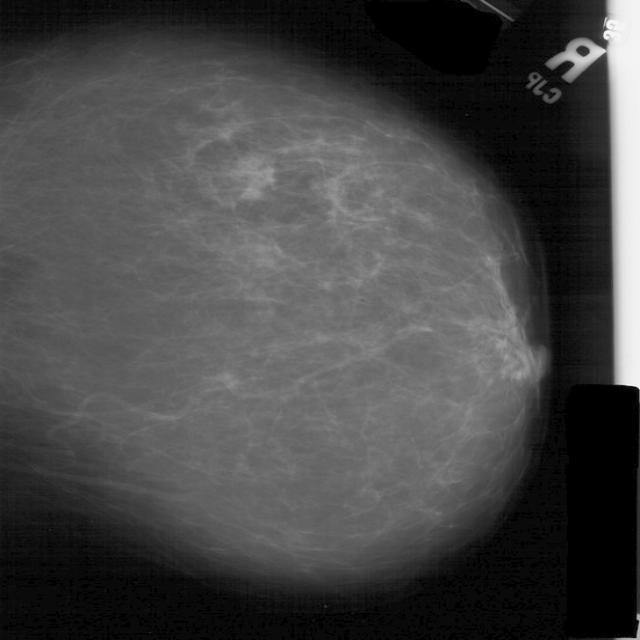tumour: (226, 152, 276, 200)
